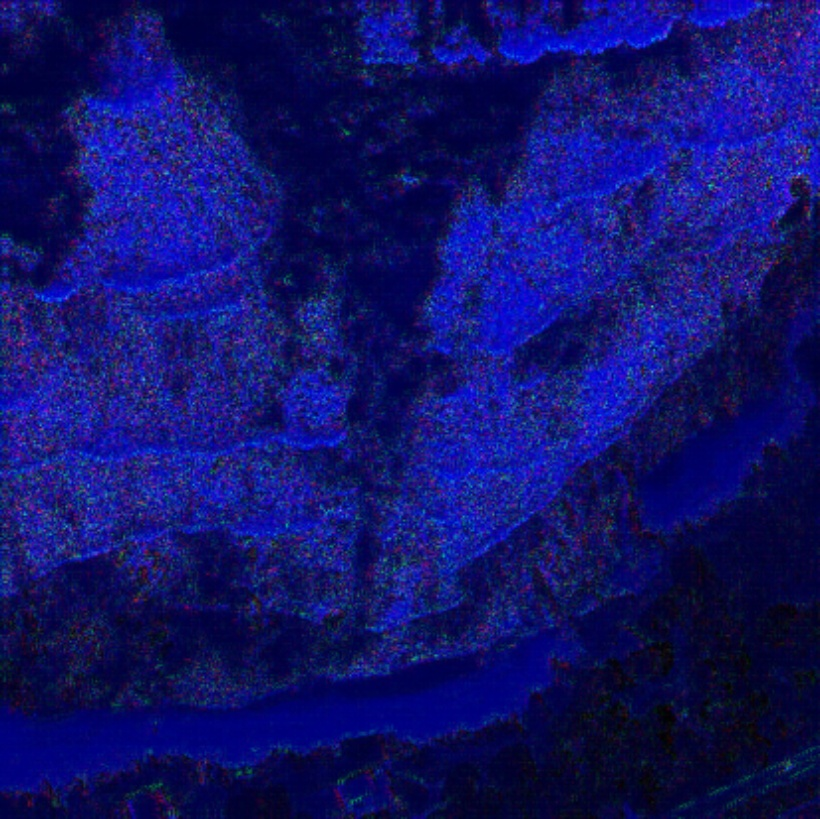rip_current: (198, 132, 505, 606)
